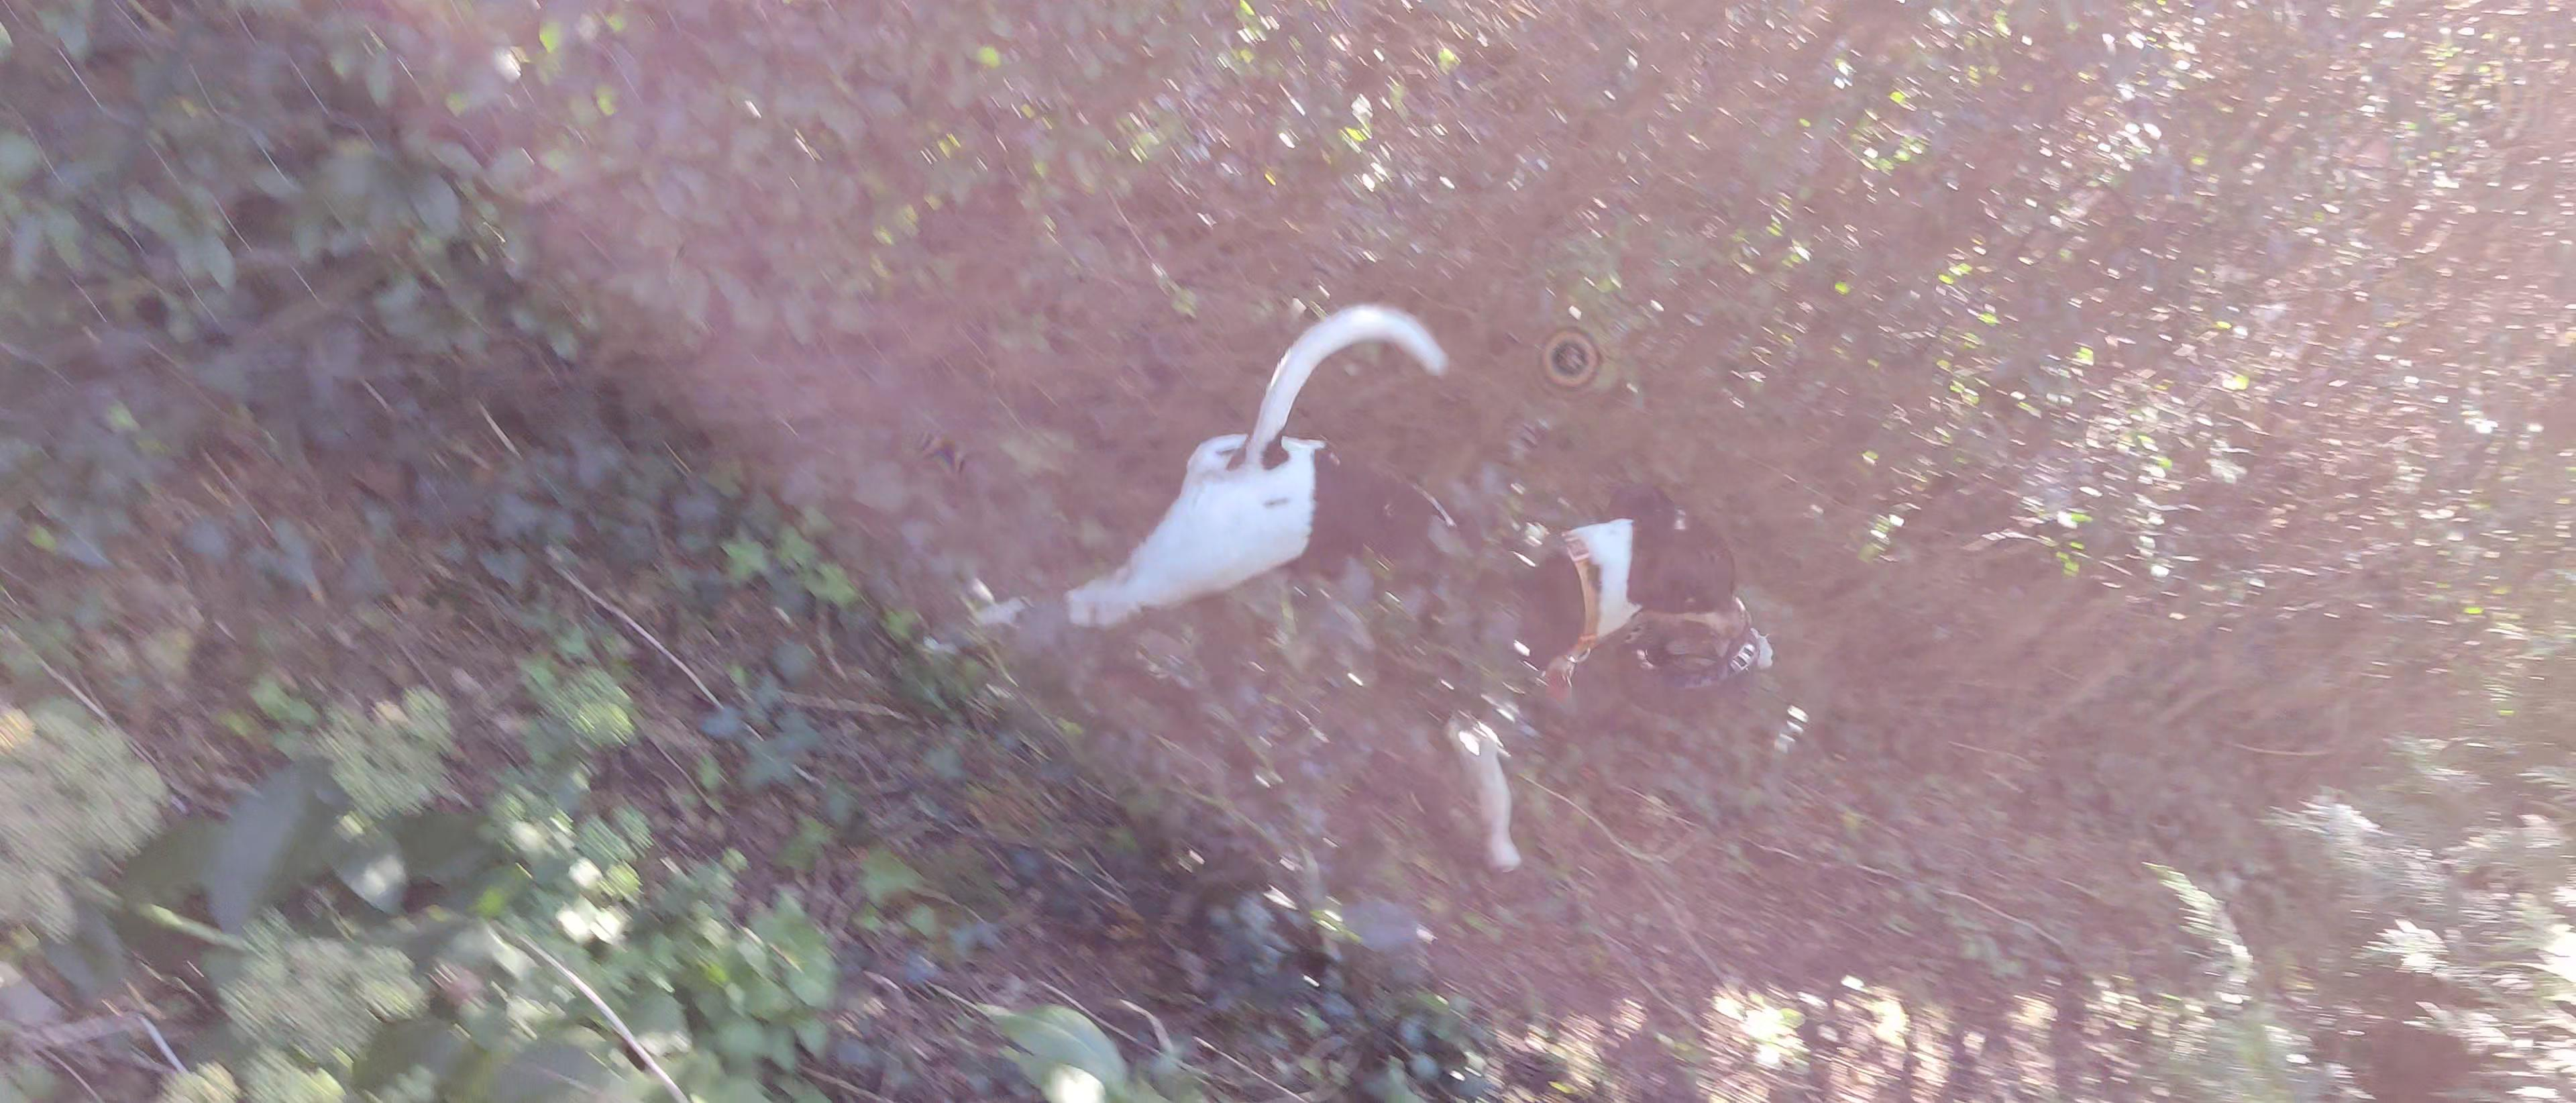Dog: (958, 293, 1759, 881)
